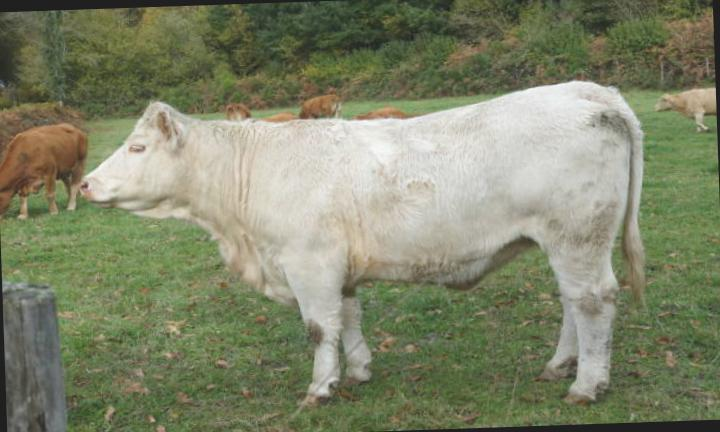Charolais: (79, 81, 643, 404)
